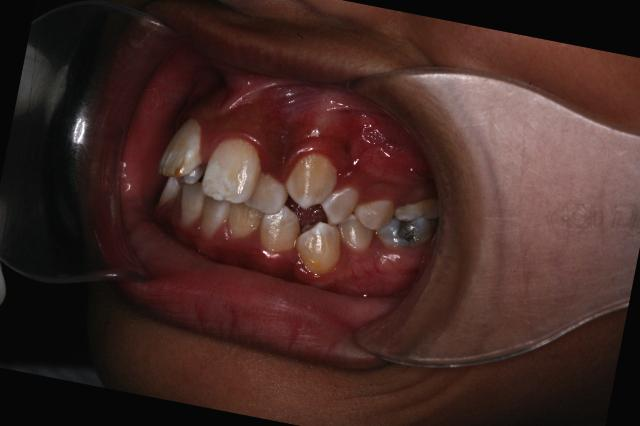canine class I: (252, 138, 361, 283)
molar class I: (371, 186, 446, 263)
